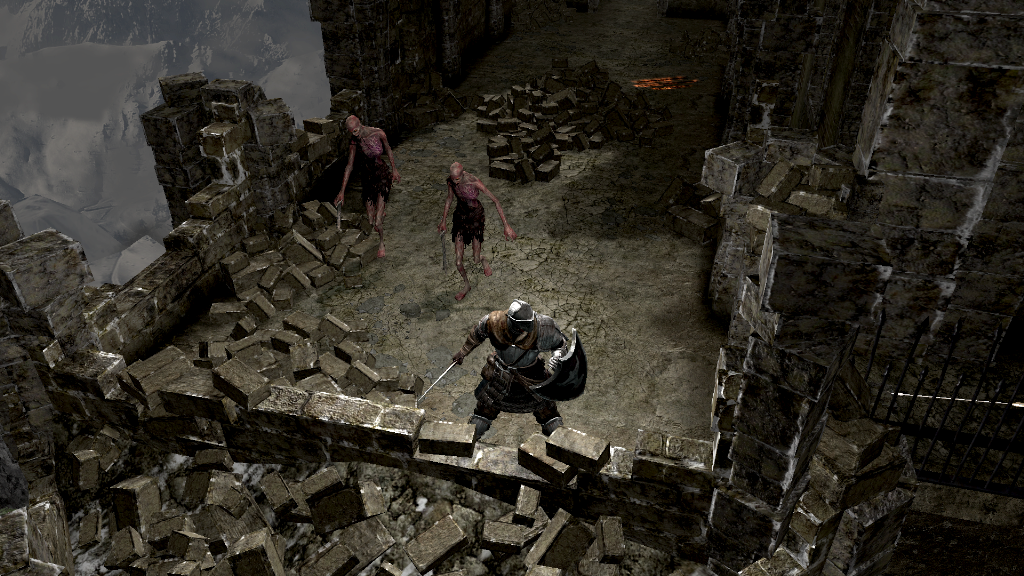hollow: (437, 161, 518, 302), (335, 115, 401, 260)
player: (417, 303, 590, 436)
